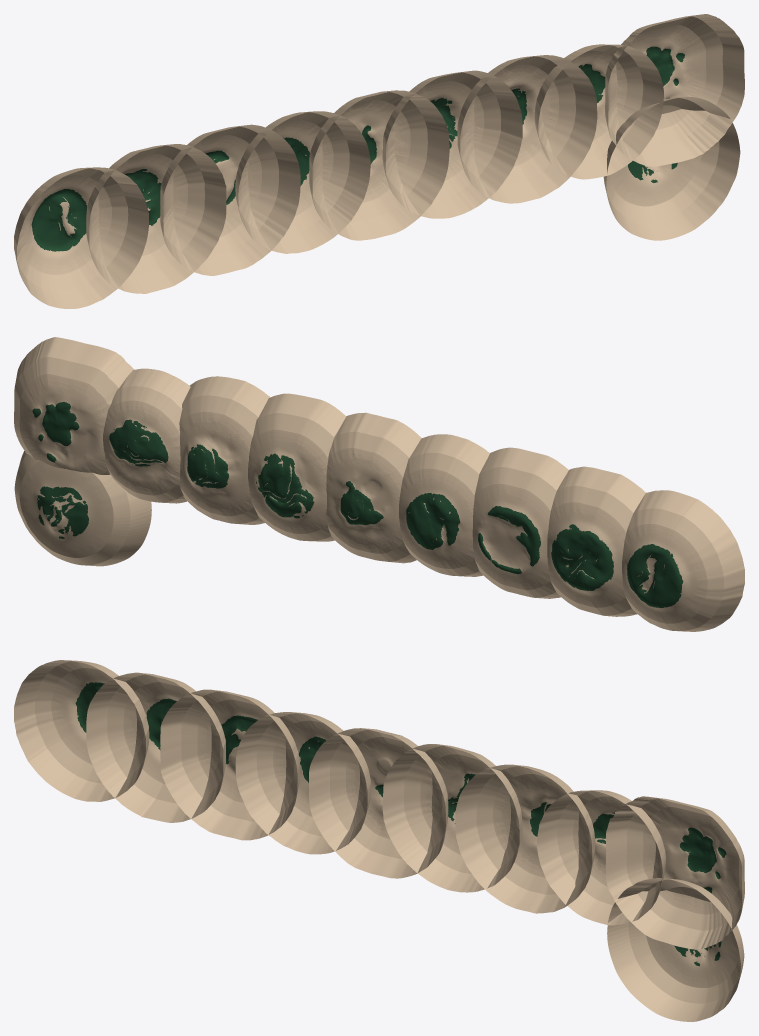
File: Islands 1.fbx
3 views of the same model, one above another, from view 1: azimuth 30°, elevation 25°; view 2: azimuth 150°, elevation 25°; view 3: azimuth 330°, elevation 25° (orthographic).
Parts seen in each view (by area): view 1: Island 9, Island 3, Island 8, Island 5, Island 1, Island 2, Island 6, Island 10, Island 7, Island 4; view 2: Island 9, Island 3, Island 1, Island 2, Island 6, Island 10, Island 8, Island 5, Island 7, Island 4; view 3: Island 3, Island 5, Island 8, Island 2, Island 9, Island 1, Island 10, Island 6, Island 7, Island 4.
Boxes of the visible parts, x1,y1,x2,y2 form: Island 9: [14, 167, 148, 308]; Island 3: [605, 14, 744, 166]; Island 8: [309, 90, 449, 240]; Island 5: [457, 55, 597, 203]; Island 1: [86, 144, 226, 293]; Island 2: [160, 124, 300, 275]; Island 6: [382, 70, 522, 218]; Island 10: [603, 97, 740, 240]; Island 7: [235, 111, 370, 253]; Island 4: [534, 44, 663, 179]; Island 9: [622, 490, 744, 631]; Island 3: [14, 337, 133, 474]; Island 1: [547, 466, 645, 616]; Island 2: [472, 447, 568, 598]; Island 6: [248, 393, 346, 541]; Island 10: [14, 451, 151, 566]; Island 8: [326, 412, 421, 563]; Island 5: [179, 376, 270, 524]; Island 7: [399, 434, 489, 576]; Island 4: [103, 368, 190, 503]; Island 3: [605, 796, 744, 949]; Island 5: [455, 764, 594, 913]; Island 8: [309, 728, 448, 878]; Island 2: [160, 689, 299, 840]; Island 9: [14, 660, 149, 801]; Island 1: [86, 672, 225, 822]; Island 10: [607, 878, 744, 1021]; Island 6: [382, 744, 522, 892]; Island 7: [235, 712, 370, 854]; Island 4: [537, 790, 665, 925].
Size of the model in its own units: 1965 by 568 by 133.
